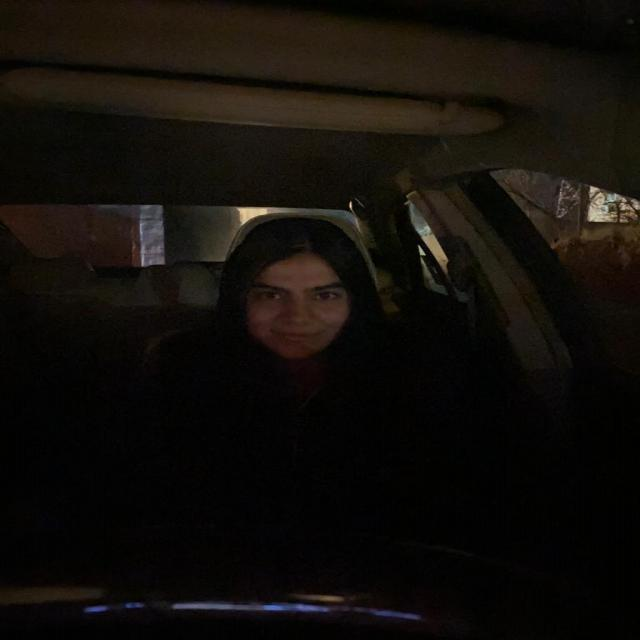person: (223, 221, 367, 373)
